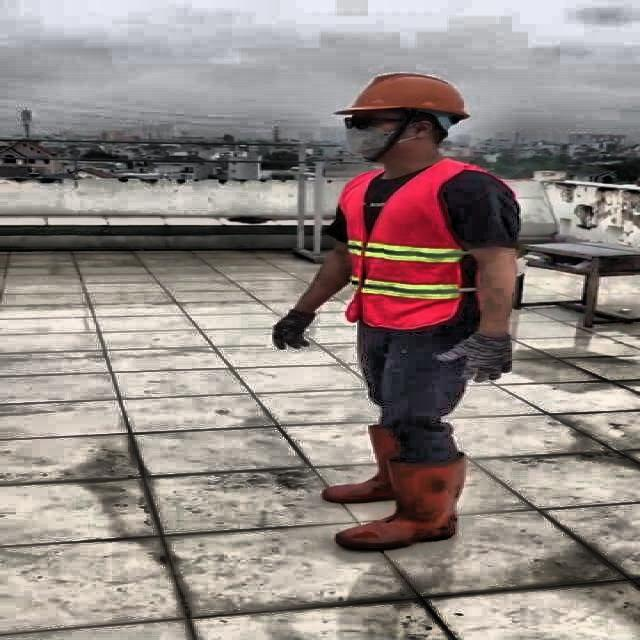safety_helmet: (331, 74, 476, 121)
safety_jacket: (340, 164, 464, 327)
